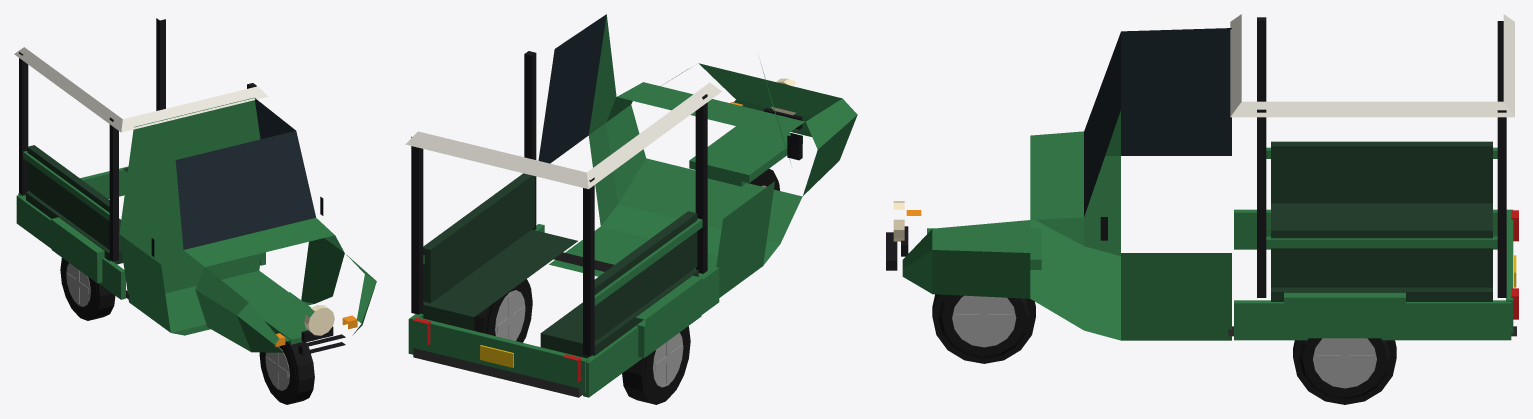
Rendered from tempo.glb.
3 views of the same model, side by side, from view 1: azimuth 30°, elevation 25°; view 2: azimuth 150°, elevation 25°; view 3: azimuth 270°, elevation 25° (orthographic). The views are drawn at different scales.
Visible parts, largest first — view 1: body, wheel_f, wheel_rr; view 2: body, wheel_rr, wheel_rl; view 3: body, wheel_f, wheel_rl.
Boxes of the visible parts, x1,y1,x2,y2 form: body: (14, 18, 376, 355); wheel_f: (259, 341, 314, 404); wheel_rr: (60, 258, 115, 320); body: (405, 14, 857, 397); wheel_rr: (622, 326, 690, 404); wheel_rl: (474, 279, 532, 342); body: (886, 14, 1518, 340); wheel_f: (932, 294, 1035, 363); wheel_rl: (1293, 338, 1396, 404).
Size of the model in its own units: 1.48 by 1.79 by 3.42.
